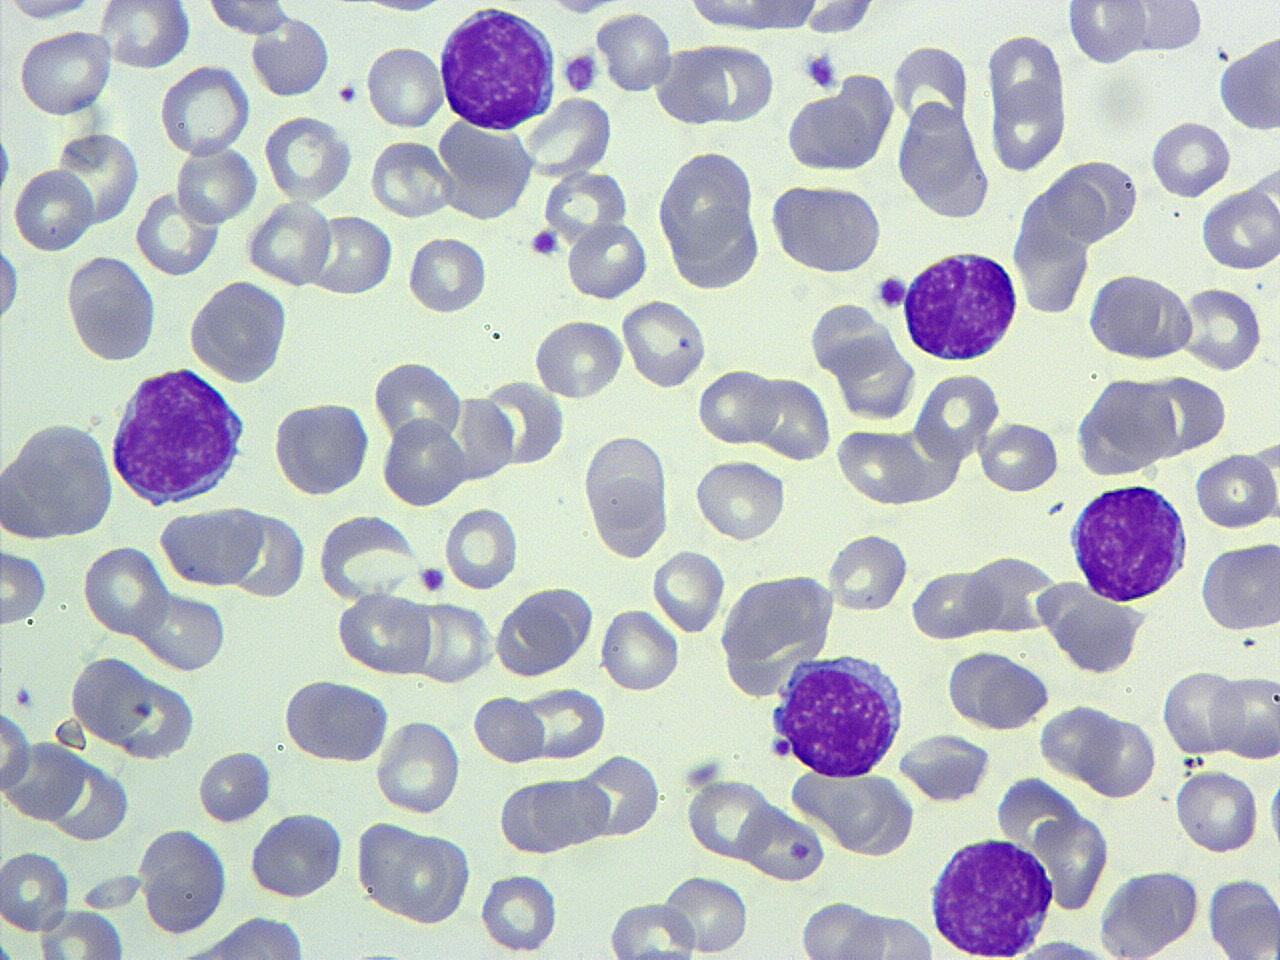Platelets: (559, 49, 600, 96), (680, 755, 724, 791), (874, 272, 910, 312), (804, 49, 838, 91), (0, 131, 15, 195), (530, 228, 561, 258), (418, 564, 448, 594), (13, 684, 35, 708), (338, 82, 359, 105), (771, 736, 791, 758)
RBC: (717, 567, 838, 702), (0, 419, 116, 546), (655, 145, 759, 282), (67, 658, 200, 764), (892, 100, 992, 221), (1070, 374, 1182, 482), (580, 431, 672, 561), (768, 181, 887, 276), (782, 77, 896, 176), (188, 276, 288, 388), (436, 118, 538, 223), (64, 252, 159, 364), (271, 396, 373, 499), (137, 824, 229, 938), (1096, 866, 1202, 960), (281, 676, 393, 764), (493, 584, 592, 682), (156, 505, 269, 589), (372, 354, 468, 452), (245, 808, 347, 900), (944, 646, 1051, 731), (374, 716, 464, 817), (158, 62, 252, 158), (964, 549, 1063, 639), (336, 588, 435, 678), (15, 27, 114, 117), (54, 129, 143, 229), (834, 424, 936, 508), (694, 454, 790, 543), (260, 113, 353, 204), (80, 544, 170, 638), (620, 296, 710, 390), (914, 369, 1002, 464), (378, 414, 466, 509), (1171, 765, 1263, 855), (530, 315, 627, 400), (245, 196, 334, 288), (136, 587, 230, 674), (410, 596, 499, 686), (133, 187, 221, 278), (685, 776, 774, 865), (1176, 282, 1264, 372), (985, 29, 1065, 127), (308, 210, 398, 296), (523, 92, 613, 178), (661, 871, 752, 956), (1200, 537, 1280, 633), (367, 135, 455, 222), (250, 8, 332, 101), (12, 164, 95, 255), (397, 828, 474, 926), (1084, 268, 1166, 360), (990, 78, 1068, 173), (691, 38, 777, 124), (577, 750, 661, 838), (365, 40, 446, 131), (174, 139, 259, 225), (825, 529, 911, 614), (598, 605, 680, 694), (405, 232, 491, 316), (478, 868, 560, 956), (1193, 447, 1277, 532), (740, 802, 827, 884), (4, 736, 85, 824), (542, 168, 631, 248), (896, 730, 992, 804), (496, 775, 582, 857), (1199, 184, 1279, 272), (1161, 668, 1241, 756), (754, 372, 832, 462), (1046, 808, 1112, 914), (1080, 713, 1160, 800), (910, 565, 1000, 642), (444, 503, 520, 594), (566, 218, 650, 300), (520, 684, 608, 762), (1217, 24, 1279, 134), (1149, 118, 1231, 200), (598, 8, 674, 96), (651, 546, 726, 635), (696, 366, 777, 448), (653, 44, 729, 131), (96, 1, 191, 70), (1039, 701, 1119, 780), (196, 744, 273, 826), (0, 846, 71, 934), (977, 420, 1060, 494), (1211, 672, 1279, 762), (1207, 876, 1279, 960), (532, 774, 610, 851), (606, 898, 698, 960), (472, 692, 546, 768), (1064, 1, 1146, 67), (826, 910, 936, 958), (798, 899, 886, 959), (678, 0, 820, 34), (35, 908, 126, 960), (1122, 0, 1206, 55), (0, 544, 48, 626), (203, 0, 292, 37), (0, 704, 34, 796), (800, 0, 880, 37), (79, 868, 144, 912), (0, 0, 106, 25), (0, 233, 23, 329)
WBC: (108, 364, 251, 508), (772, 650, 910, 780), (654, 145, 772, 292), (924, 834, 1058, 959), (1068, 476, 1192, 608), (436, 3, 560, 134), (718, 569, 838, 700), (0, 415, 118, 544), (900, 246, 1024, 363), (70, 653, 199, 764), (894, 96, 993, 217), (580, 430, 672, 560), (770, 180, 886, 281), (786, 74, 899, 174), (186, 278, 292, 384), (1075, 373, 1177, 483), (63, 250, 159, 365), (135, 824, 232, 936), (1095, 864, 1207, 959), (274, 397, 374, 503), (280, 674, 394, 766), (494, 582, 598, 680), (248, 805, 351, 901), (377, 355, 473, 454), (946, 649, 1052, 732), (382, 418, 470, 507), (248, 8, 334, 99), (1199, 538, 1279, 634), (1217, 19, 1280, 136), (896, 728, 992, 804), (160, 914, 321, 959)
